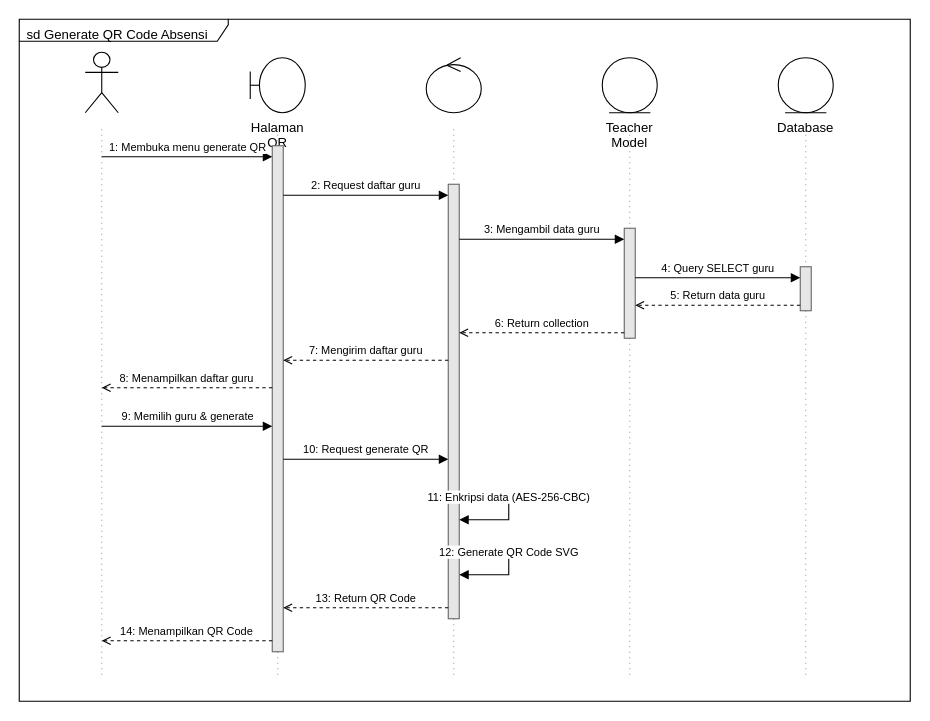
Some shapes in this 930 by 721 pixel diagram are drawn without their labels. The shapes that lost their labels are listed below. From the top down, each one's box as (x1, y1, x2, y2) in pixels, then its label:
(84, 51, 118, 113): Admin
(425, 57, 481, 113): AttendanceController
